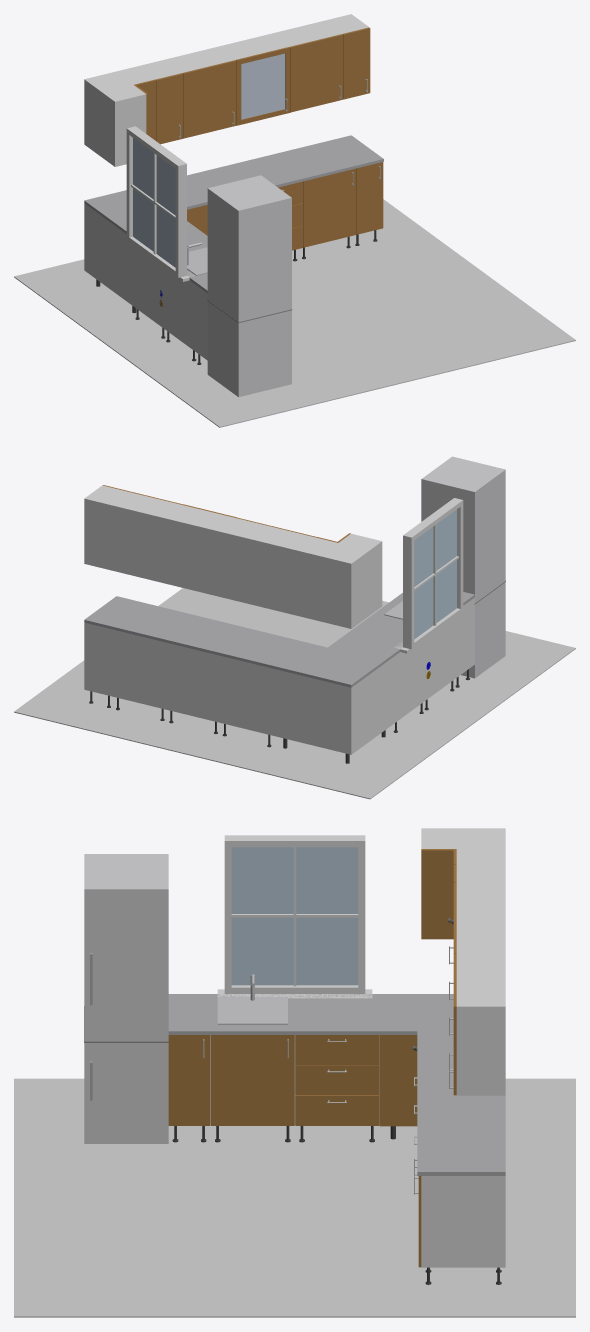
File: hybrid_master_validation.glb
3 views of the same model, one above another, from view 1: azimuth 30°, elevation 25°; view 2: azimuth 150°, elevation 25°; view 3: azimuth 270°, elevation 25° (orthographic). The views are drawn at different scales.
Visible parts, largest first — view 1: world; view 2: world; view 3: world.
Part boxes in pixels (bbox=[...]): world: bbox=[14, 14, 575, 427]; world: bbox=[14, 456, 575, 799]; world: bbox=[14, 828, 575, 1317].
Size of the model in its own units: 400 by 221 by 400.
